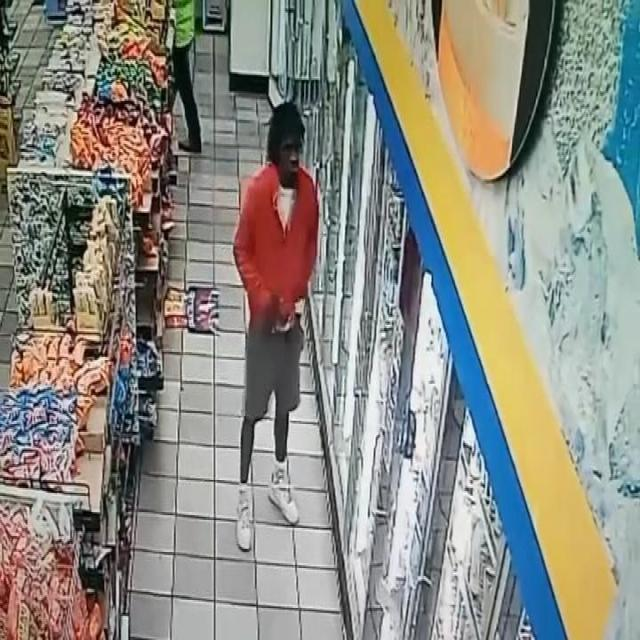Shoplifting: (206, 80, 350, 592)
